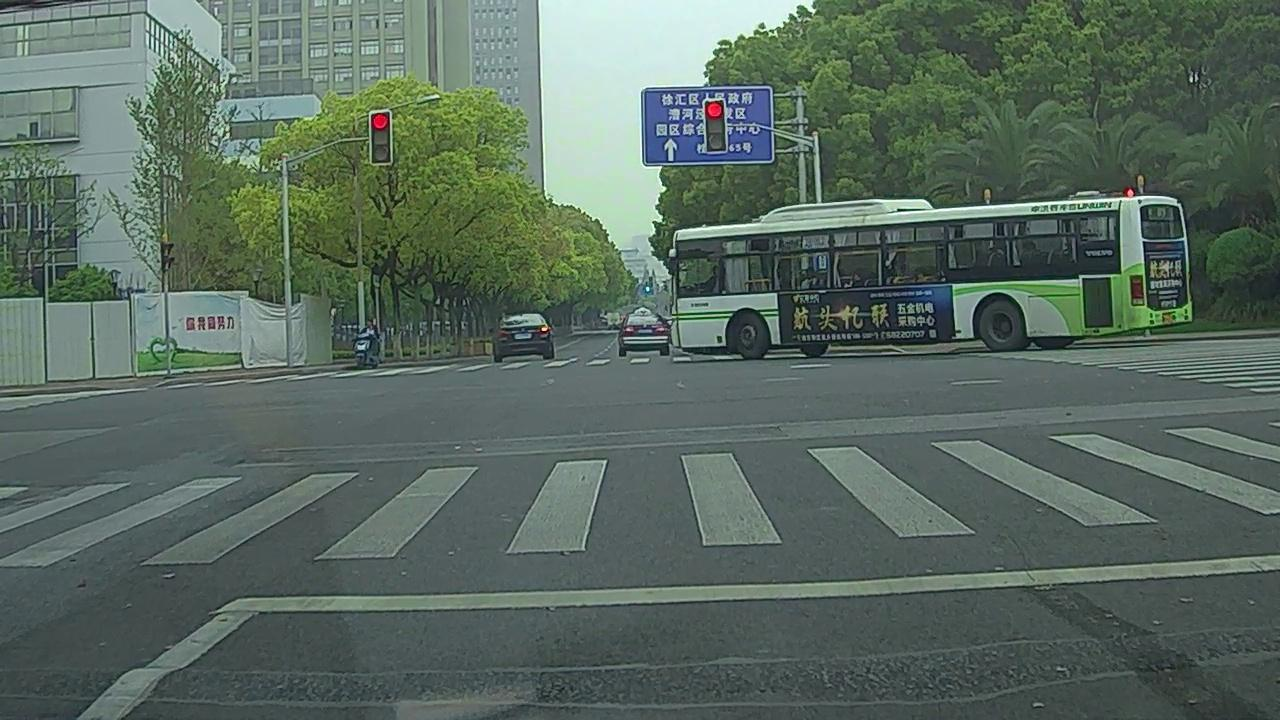traffic_light: (704, 100, 726, 150), (370, 113, 390, 162)
